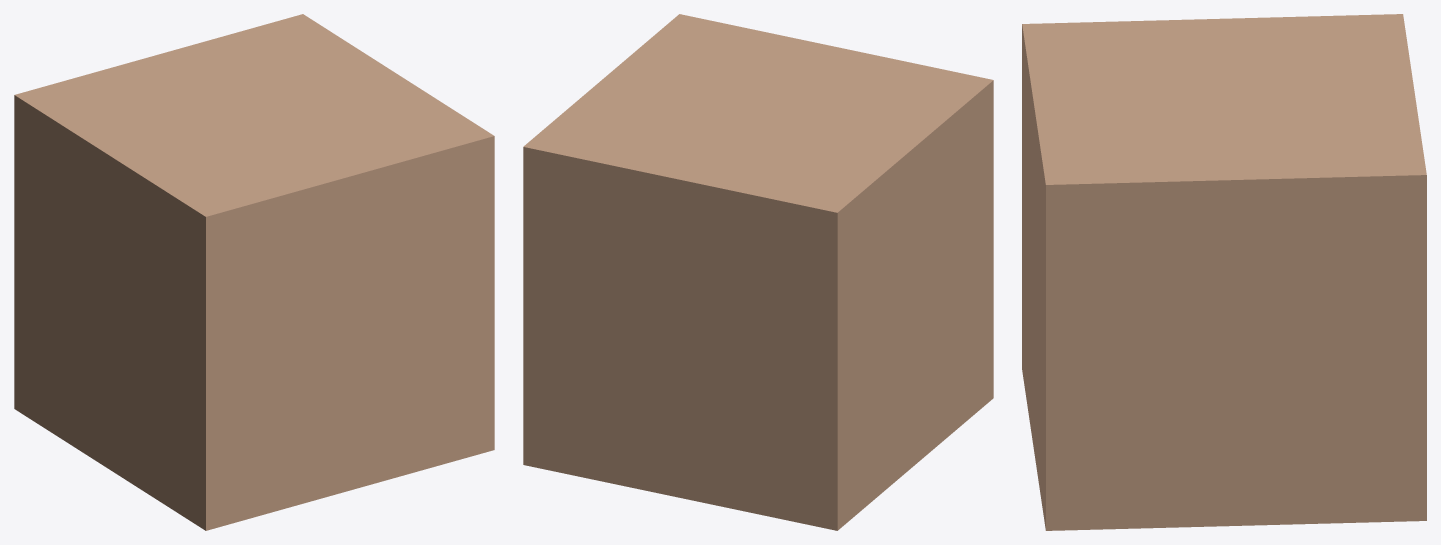
The picture shows the model from 3 angles, left to right: view 1: azimuth 30°, elevation 25°; view 2: azimuth 150°, elevation 25°; view 3: azimuth 270°, elevation 25°; orthographic projection. The views are drawn at different scales.
Parts seen in each view (by area): view 1: Cube.014; view 2: Cube.014; view 3: Cube.014.
Boxes of the visible parts, x1,y1,x2,y2 form: Cube.014: [14, 14, 494, 530]; Cube.014: [523, 14, 993, 530]; Cube.014: [1022, 14, 1426, 530].
Bounding box in the file's own units: 0.3284 × 0.3098 × 0.3284.
